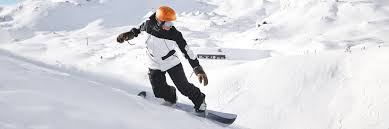snowboarder: (114, 4, 240, 129)
